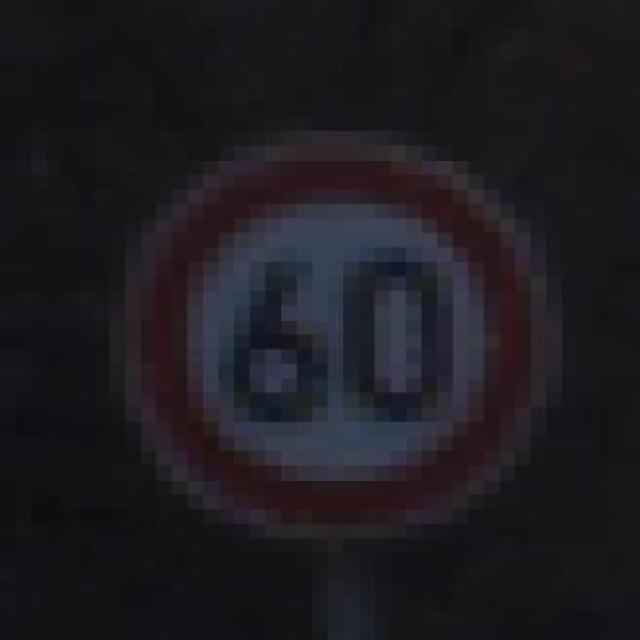forb_speed_over_60: (142, 146, 529, 525)
